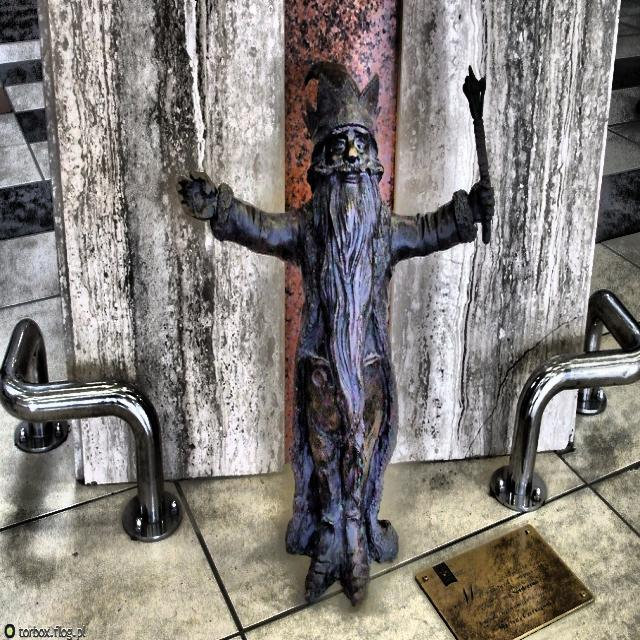Serdecznis: (176, 62, 494, 612)
